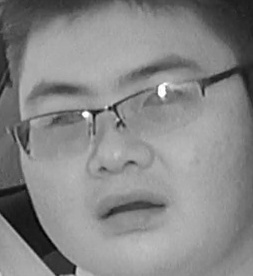glass: (112, 84, 207, 136), (19, 109, 97, 161)
mouth: (91, 185, 166, 230)
